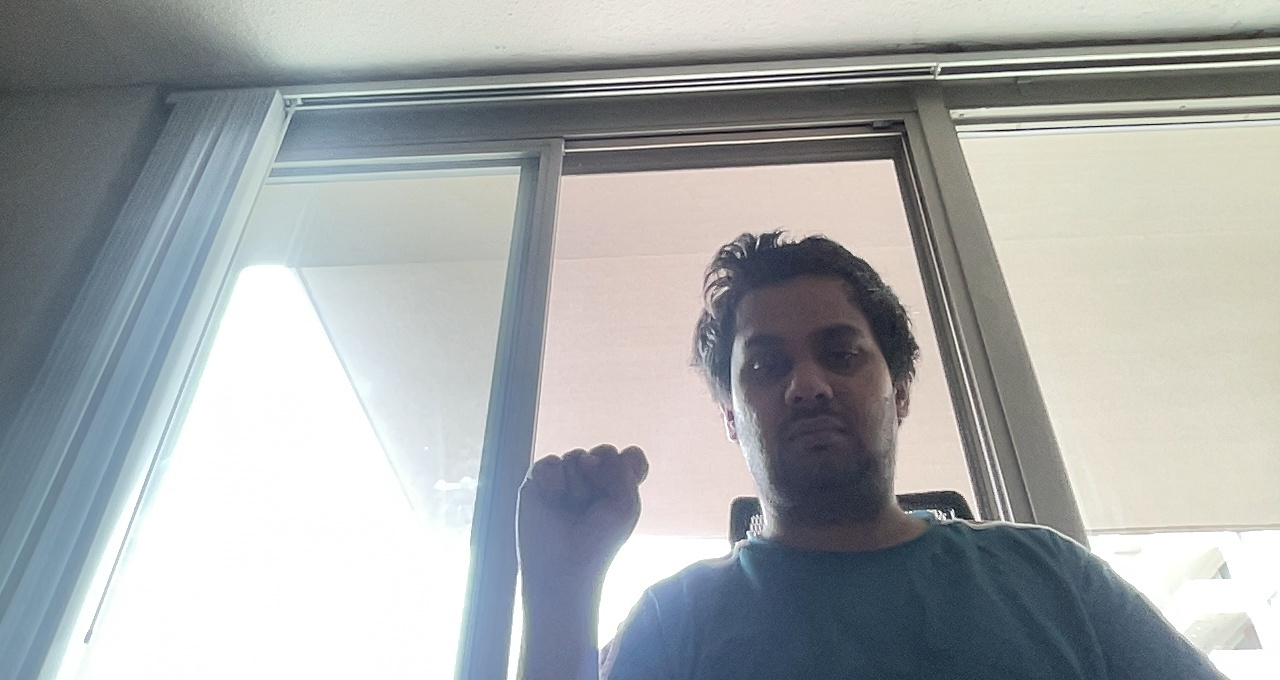closedfist: (516, 440, 657, 568)
